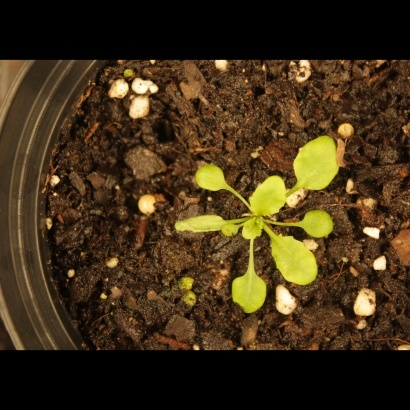leaf: (288, 129, 351, 194), (226, 260, 274, 320), (271, 231, 318, 291), (244, 171, 289, 221), (172, 212, 227, 241), (298, 208, 339, 243), (193, 161, 230, 195), (242, 216, 265, 239), (220, 221, 243, 244)
